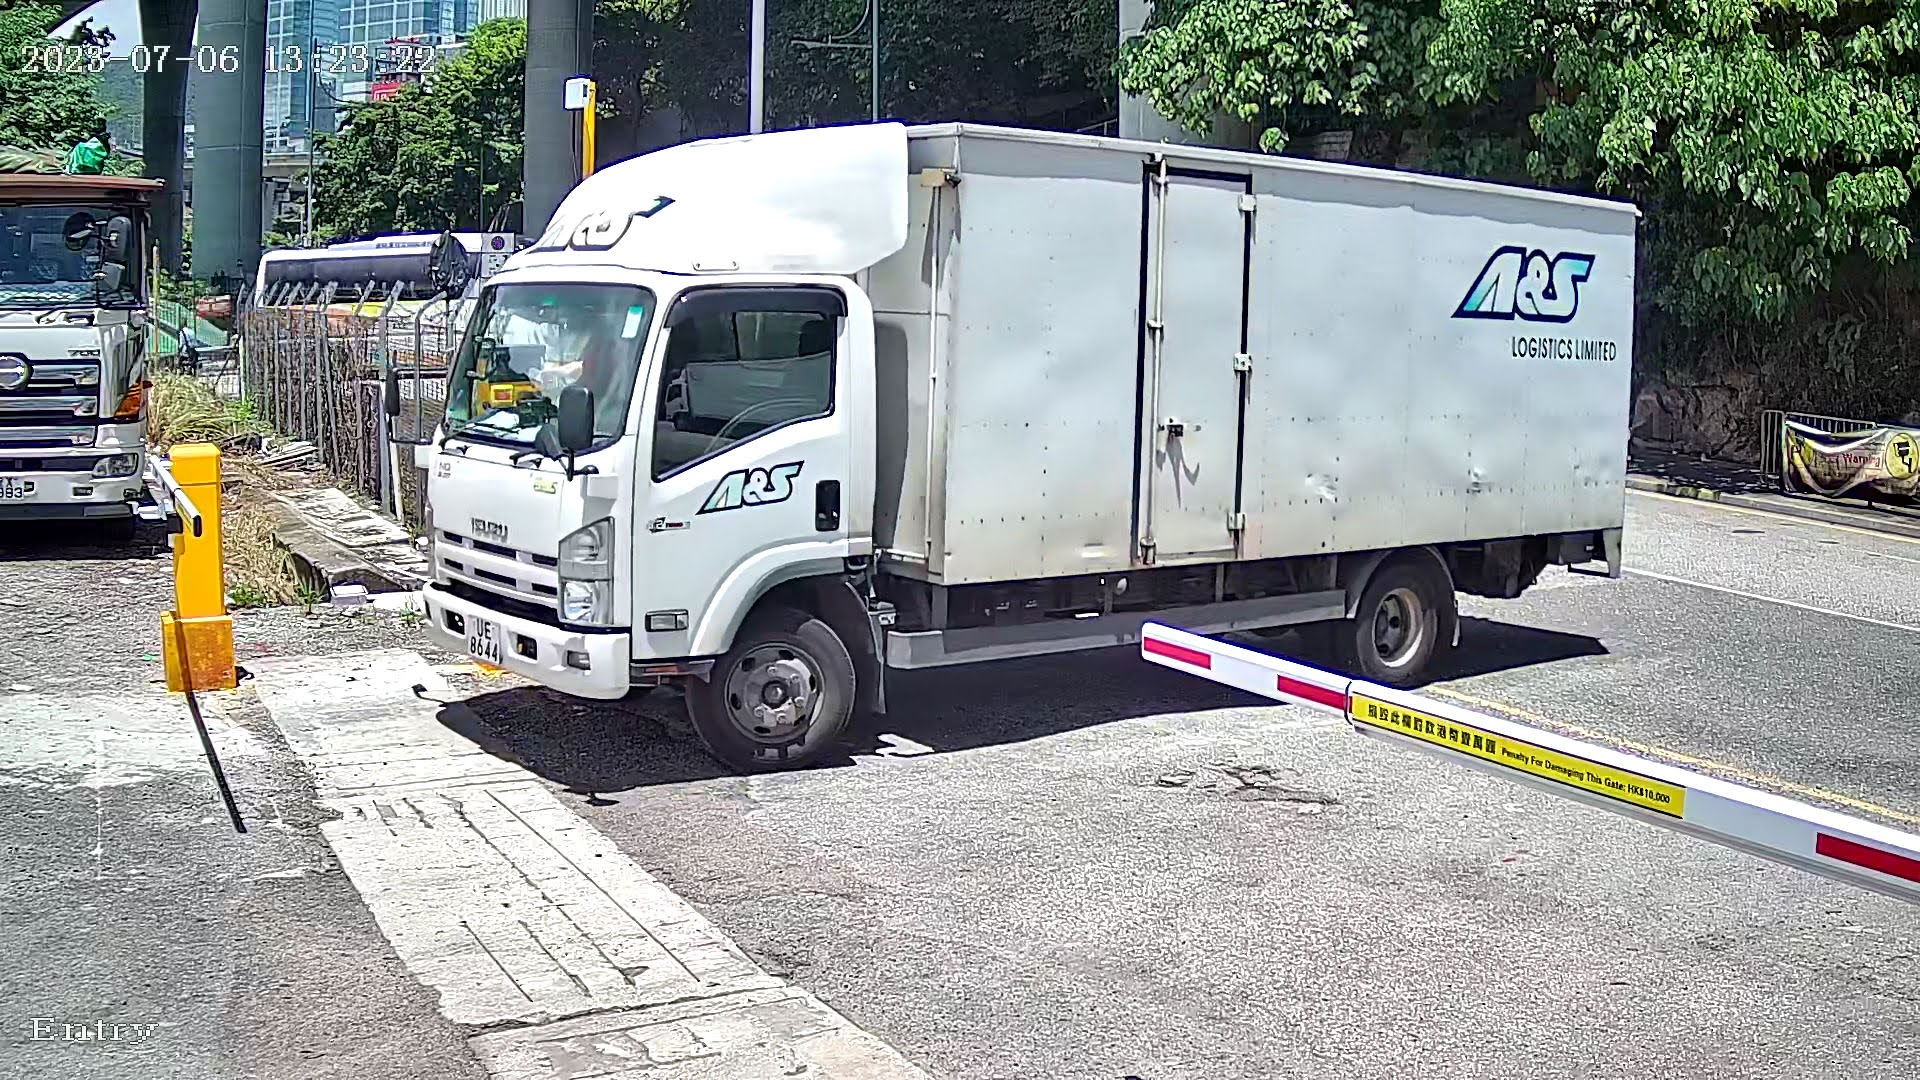truck: (367, 80, 1725, 781)
